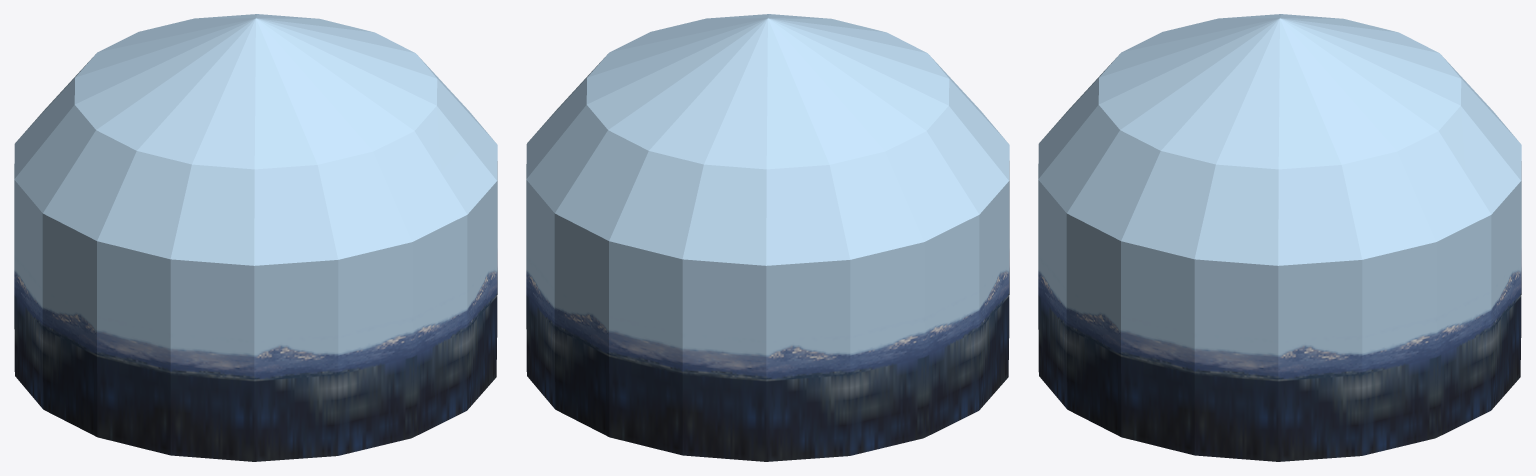
3 views of the same model, side by side, from view 1: azimuth 30°, elevation 25°; view 2: azimuth 150°, elevation 25°; view 3: azimuth 270°, elevation 25° (orthographic).
Parts seen in each view (by area): view 1: mesh00; view 2: mesh00; view 3: mesh00.
Boxes of the visible parts, <box> form: mesh00: <box>14,14,497,461</box>; mesh00: <box>526,14,1009,461</box>; mesh00: <box>1038,14,1521,461</box>.
Bounding box in the file's own units: 102411 × 98953 × 100980.
Materials: 1 (1 with a texture image).
